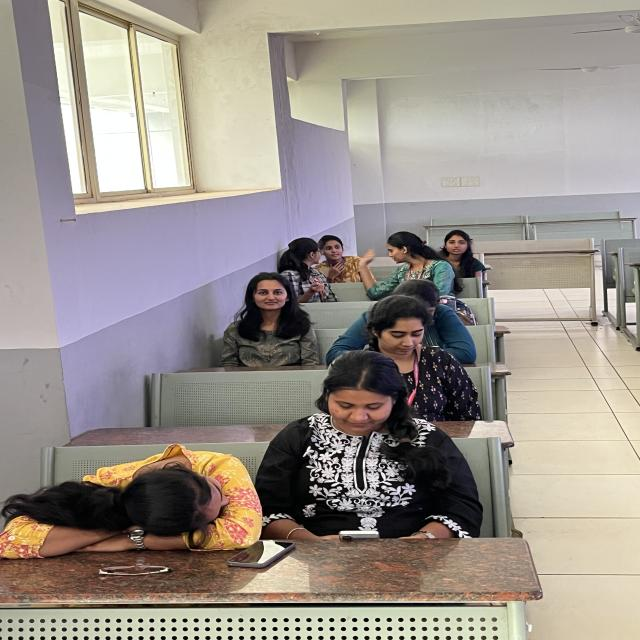Sleeping: (0, 431, 259, 562)
Using Phone: (254, 367, 453, 539)
